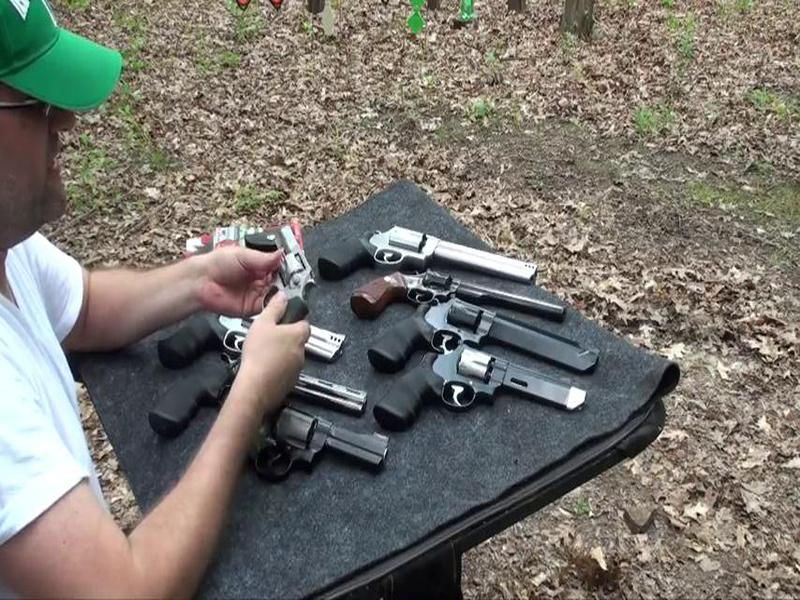Revolver: (239, 213, 317, 343)
